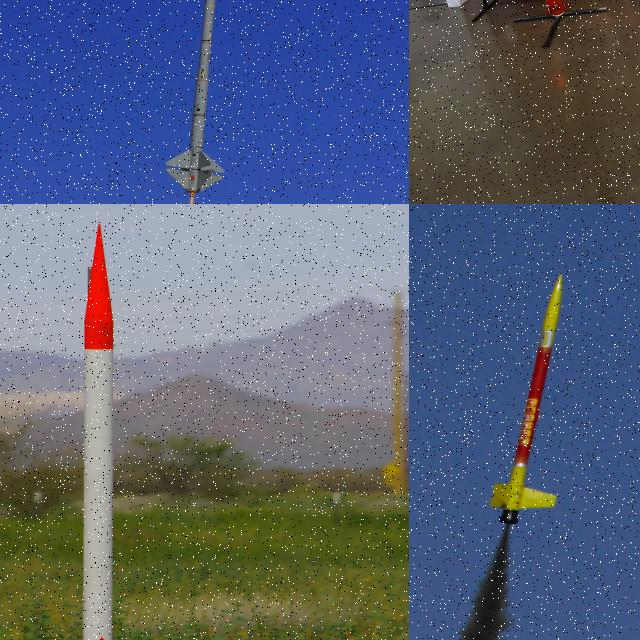Rocket: (29, 220, 153, 640), (486, 272, 566, 528), (164, 0, 226, 195)
